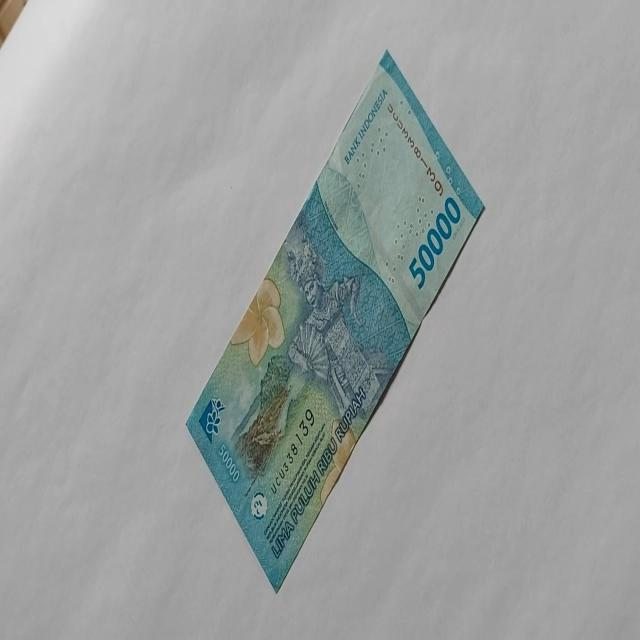lima puluh ribu rupiah: (184, 48, 486, 593), (408, 196, 460, 290)
